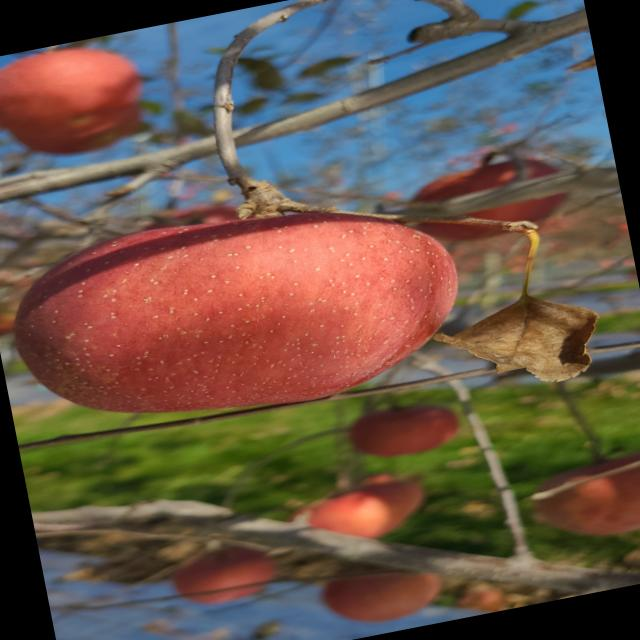fresh: (1, 163, 488, 463)
